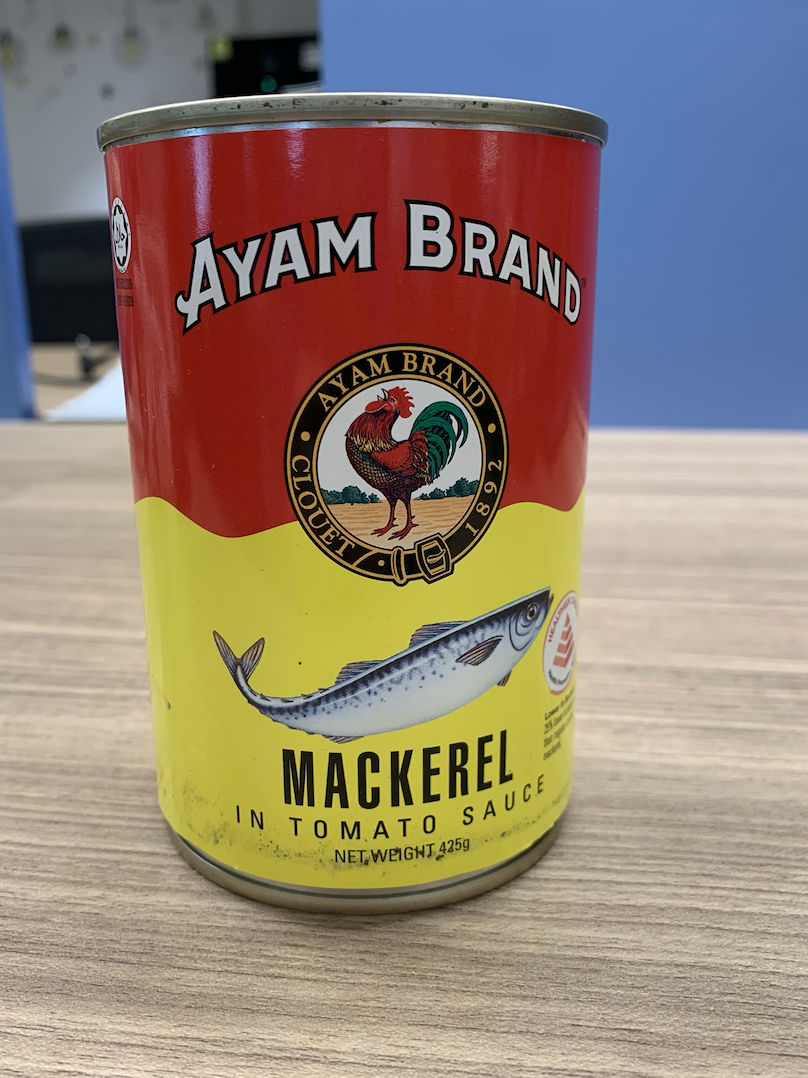sardines_450g: (120, 145, 579, 875)
